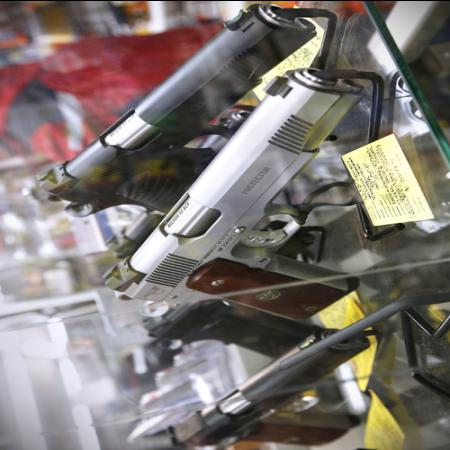Pistol: (99, 65, 365, 347), (29, 5, 312, 227), (154, 291, 416, 448)
